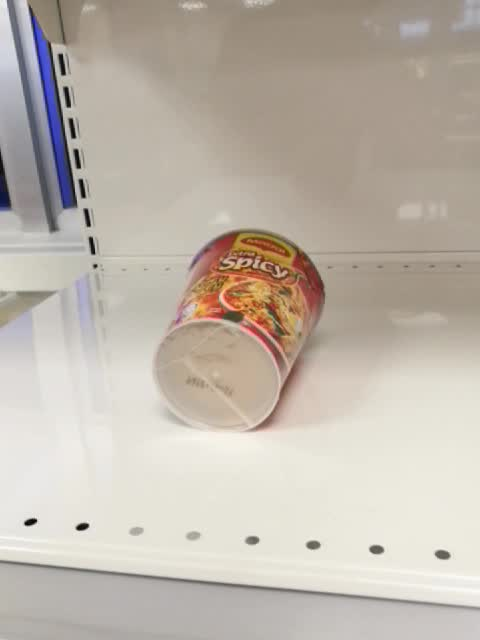maggi: (150, 227, 325, 433)
